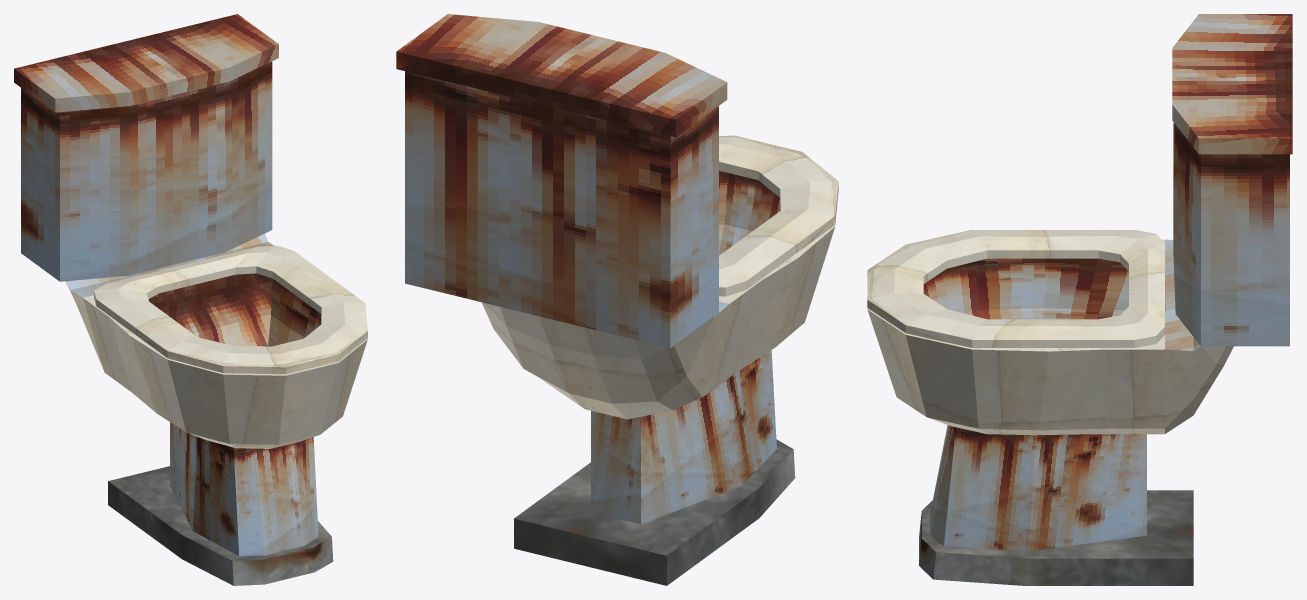
File: Toilet.fbx
3 renders of one model, left to right at view 1: azimuth 30°, elevation 25°; view 2: azimuth 150°, elevation 25°; view 3: azimuth 270°, elevation 25°, orthographic. The views are drawn at different scales.
Parts seen in each view (by area): view 1: Toilet; view 2: Toilet; view 3: Toilet.
Boxes of the visible parts, left/top/right/bottom form: Toilet: left=14, top=14, right=367, bottom=585; Toilet: left=396, top=14, right=838, bottom=585; Toilet: left=867, top=14, right=1292, bottom=585.
Size of the model in its own units: 49.54 by 88.27 by 71.53.
